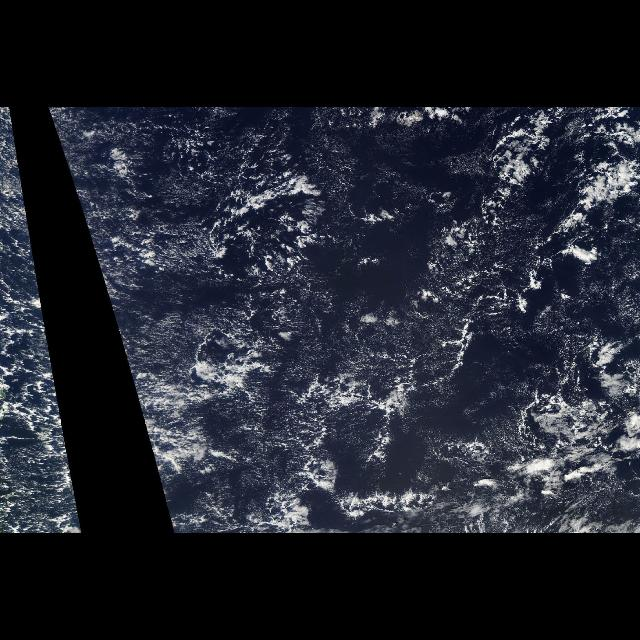Gravel: (77, 156, 549, 518)
Sugar: (56, 130, 474, 457), (4, 134, 68, 456)
